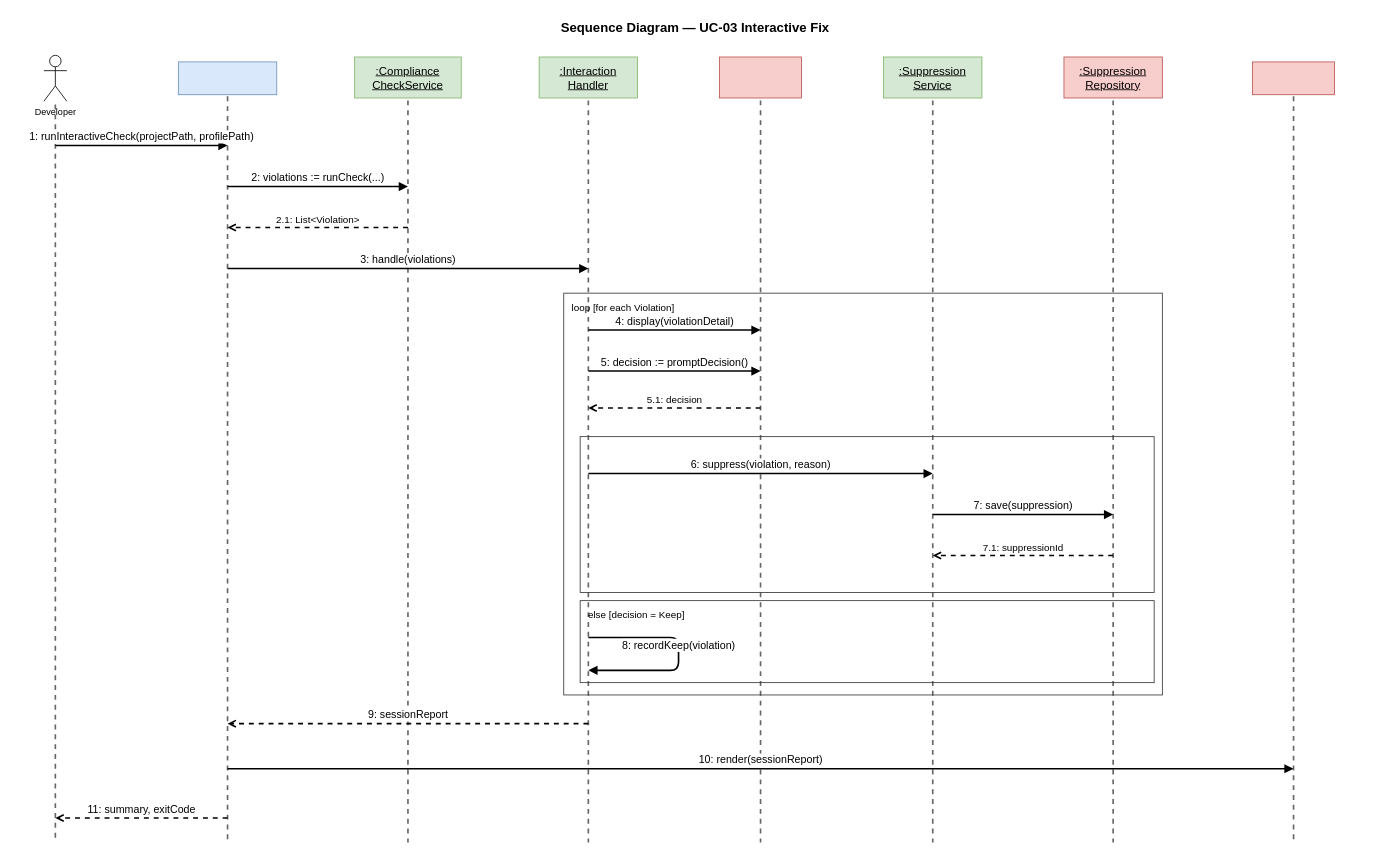
Some shapes in this 1389 by 858 pixel diagram are drawn without their labels. Each missing label, with the centre of its shape:
:CheckCommand: point 227,78
:Console Input: point 760,77
:Reporter: point 1293,78
alt [decision = Suppress]: point 866,514
